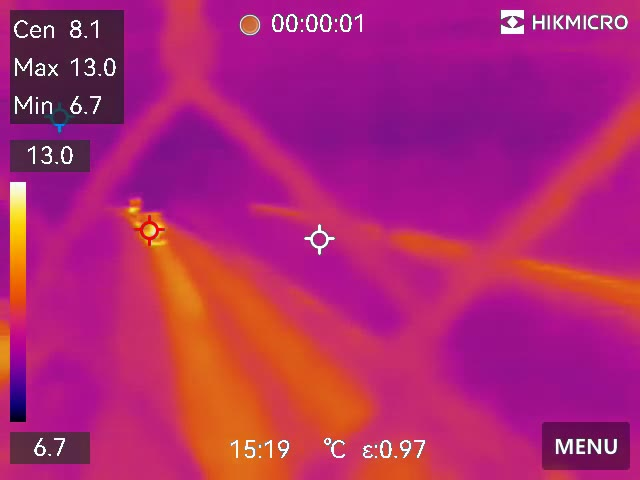heavyTruck: (139, 213, 169, 247)
